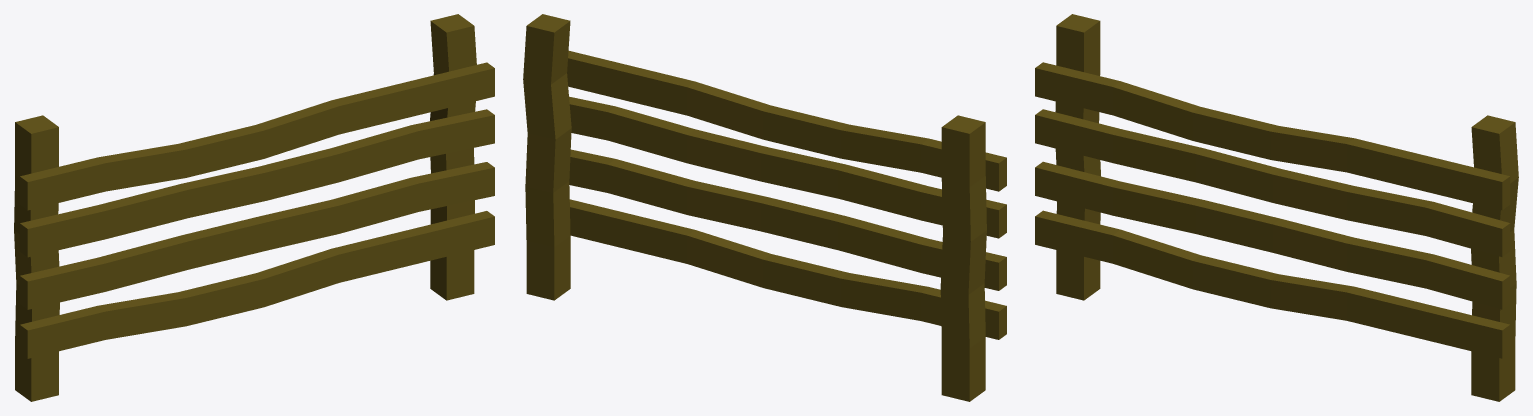
3 views of the same model, side by side, from view 1: azimuth 30°, elevation 25°; view 2: azimuth 150°, elevation 25°; view 3: azimuth 330°, elevation 25° (orthographic).
Parts seen in each view (by area): view 1: Fence 1; view 2: Fence 1; view 3: Fence 1.
Boxes of the visible parts, bbox=[...] form: Fence 1: bbox=[14, 14, 494, 401]; Fence 1: bbox=[523, 14, 1006, 401]; Fence 1: bbox=[1035, 14, 1518, 401].
Size of what is drawn, in the model's own units: 636 by 349 by 59.82.
1 material, 1 textured.
